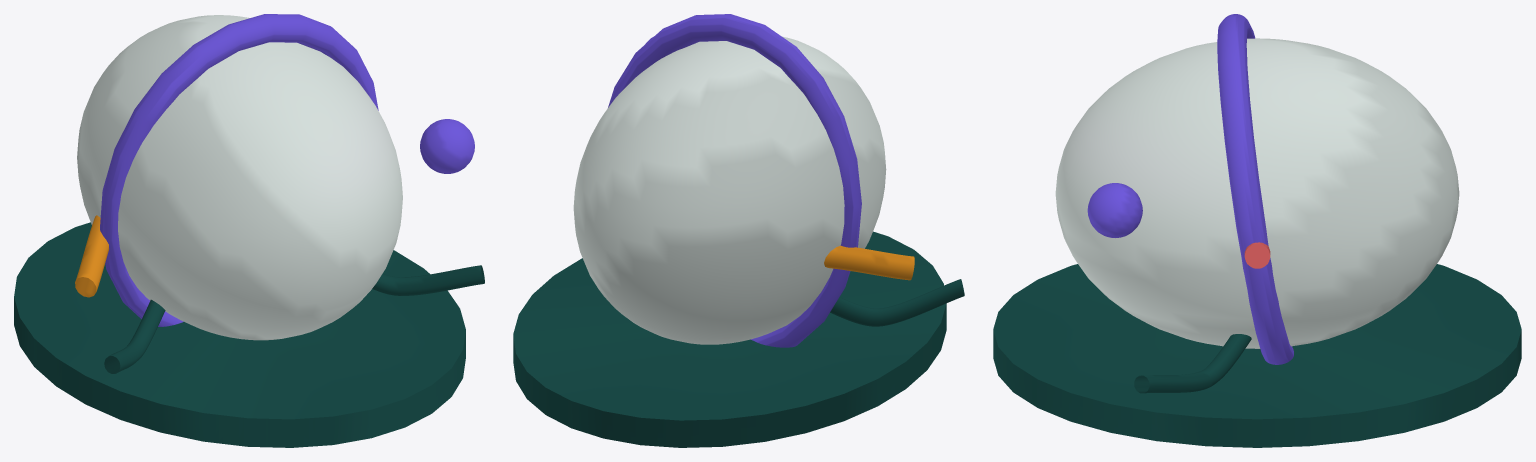
Rendered from 1214_细胞图鉴_细胞骨架.glb.
3 renders of one model, left to right at view 1: azimuth 30°, elevation 25°; view 2: azimuth 150°, elevation 25°; view 3: azimuth 270°, elevation 25°, orthographic. The views are drawn at different scales.
Visible parts, largest first — view 1: card_1214; view 2: card_1214; view 3: card_1214.
Boxes of the visible parts, bbox=[...] form: card_1214: bbox=[14, 14, 484, 447]; card_1214: bbox=[513, 14, 964, 447]; card_1214: bbox=[993, 14, 1521, 447].
Size of the model in its own units: 1.19 by 1 by 1.43.
